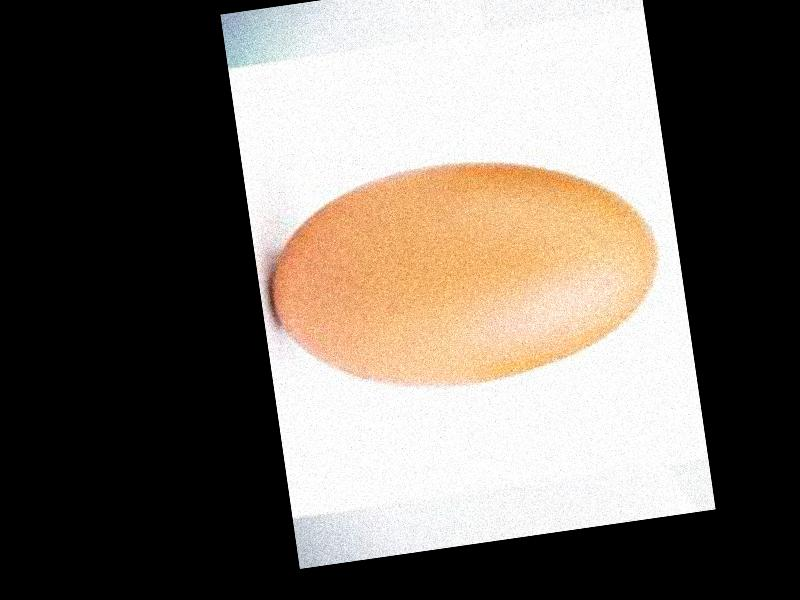Eggs: (258, 137, 670, 409)
